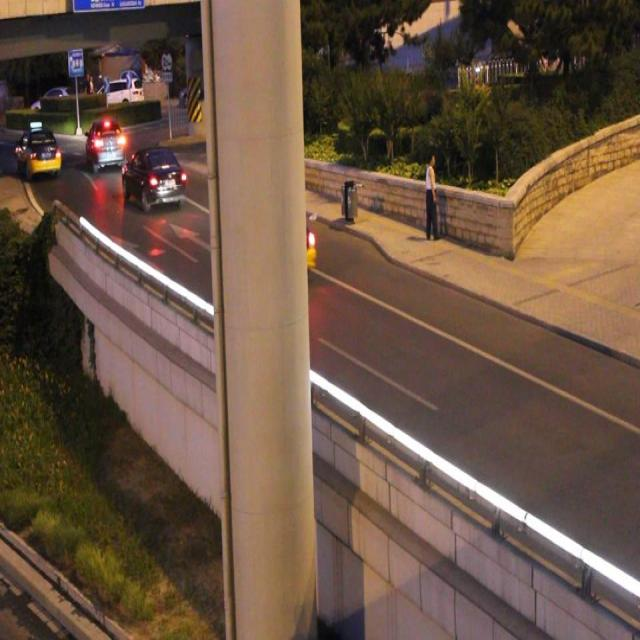car: (230, 208, 310, 278), (122, 148, 184, 206), (16, 131, 62, 174), (85, 122, 124, 166)
